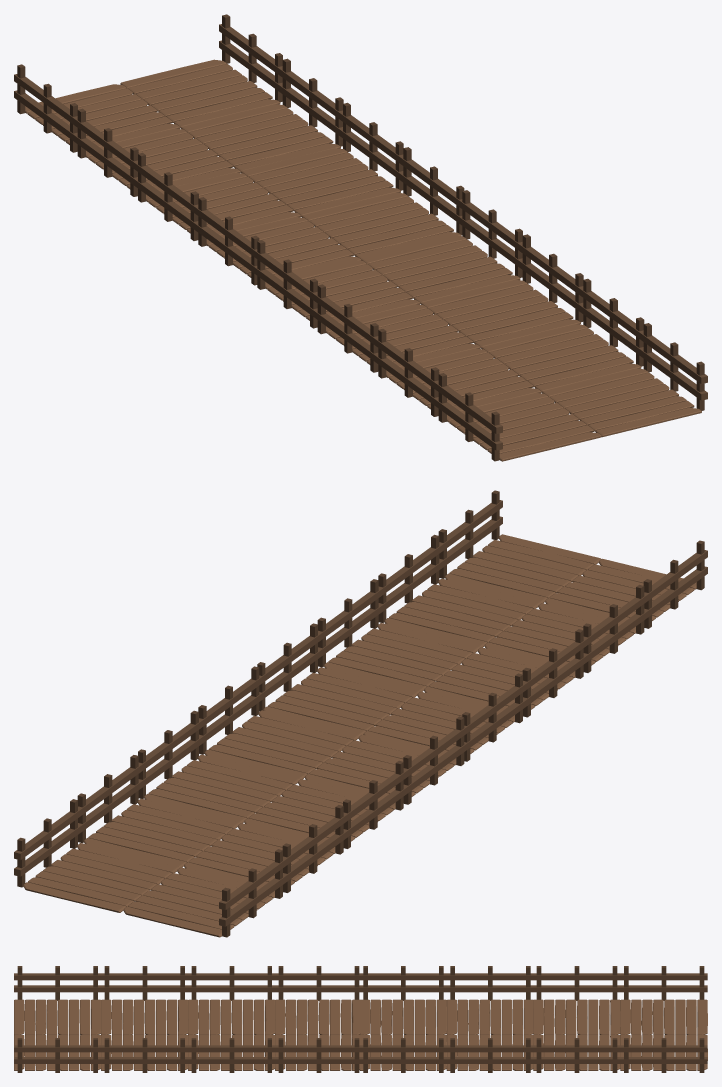
The model's file is BridgeLong.fbx.
3 views of the same model, one above another, from view 1: azimuth 30°, elevation 25°; view 2: azimuth 150°, elevation 25°; view 3: azimuth 270°, elevation 25° (orthographic). The views are drawn at different scales.
Visible parts, largest first — view 1: bridge.003; view 2: bridge.003; view 3: bridge.003.
Part boxes in pixels (x1,y1,x2,y2): bridge.003: (14, 14, 707, 461); bridge.003: (14, 490, 707, 937); bridge.003: (14, 966, 707, 1072).
Bounding box in the file's own units: 3.99 × 0.8346 × 15.75.
